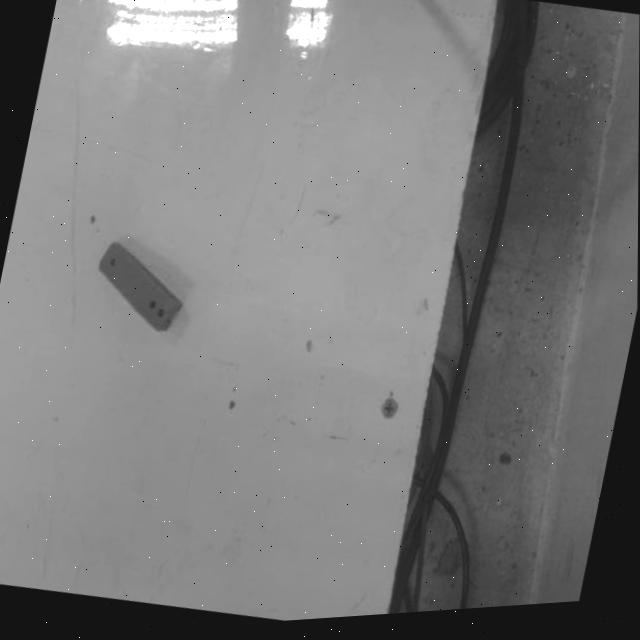grey: (85, 228, 194, 346)
head: (108, 255, 116, 268)
